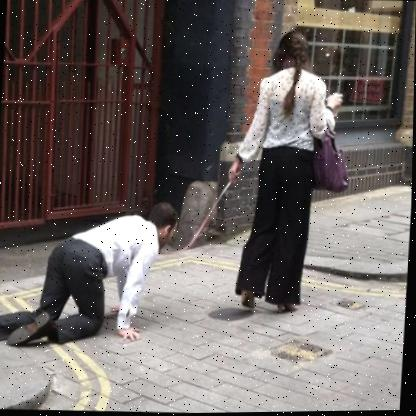dog: (0, 188, 188, 369)
person: (215, 27, 357, 327), (0, 187, 188, 354)
